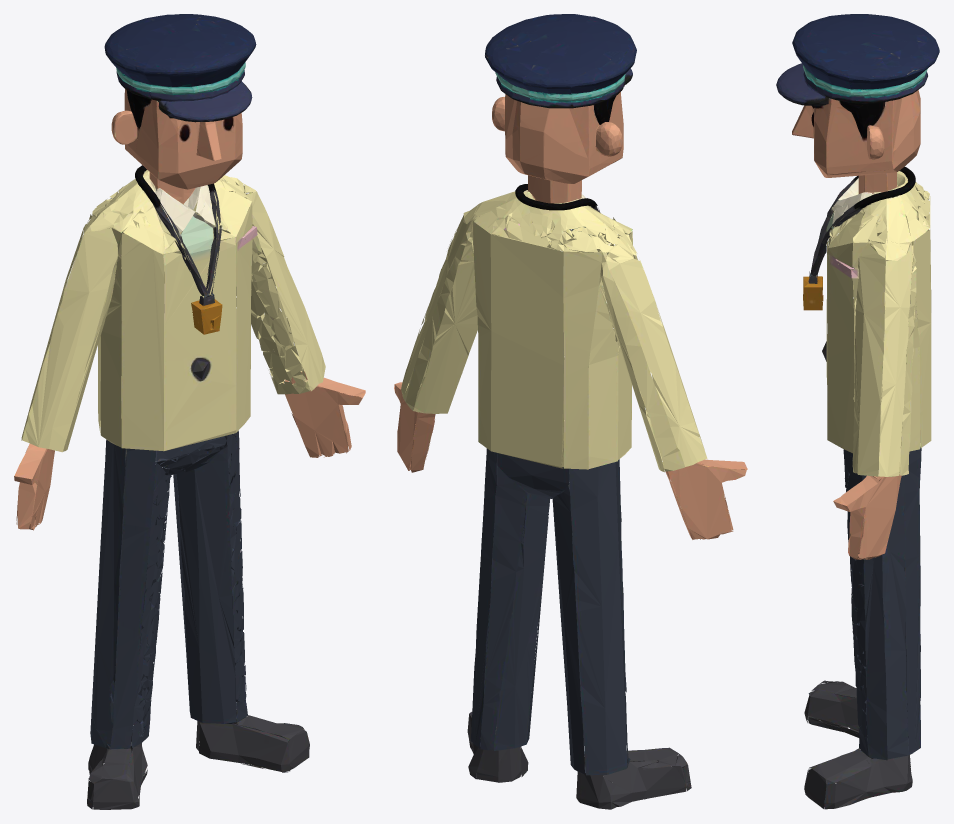
The model's file is habitant.glb.
The picture shows the model from 3 angles, left to right: view 1: azimuth 30°, elevation 25°; view 2: azimuth 150°, elevation 25°; view 3: azimuth 270°, elevation 25°; orthographic projection. The views are drawn at different scales.
Parts seen in each view (by area): view 1: world; view 2: world; view 3: world.
Part boxes in pixels (box(x1,y1,x2,y2)): world: box(14, 14, 365, 809); world: box(394, 14, 747, 809); world: box(776, 14, 939, 809).
Size of the model in its own units: 0.5021 by 1 by 0.2054.
1 material, 1 textured.
